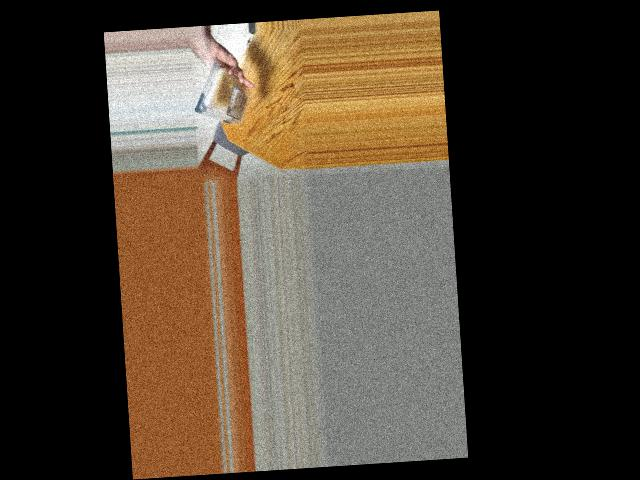cheese: (200, 65, 245, 126)
